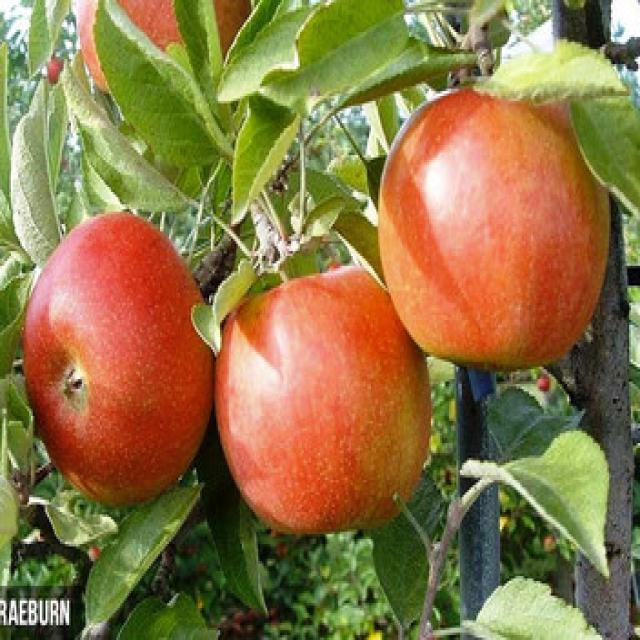apple_fruit: (372, 85, 620, 377), (205, 256, 444, 555), (15, 201, 224, 521)
